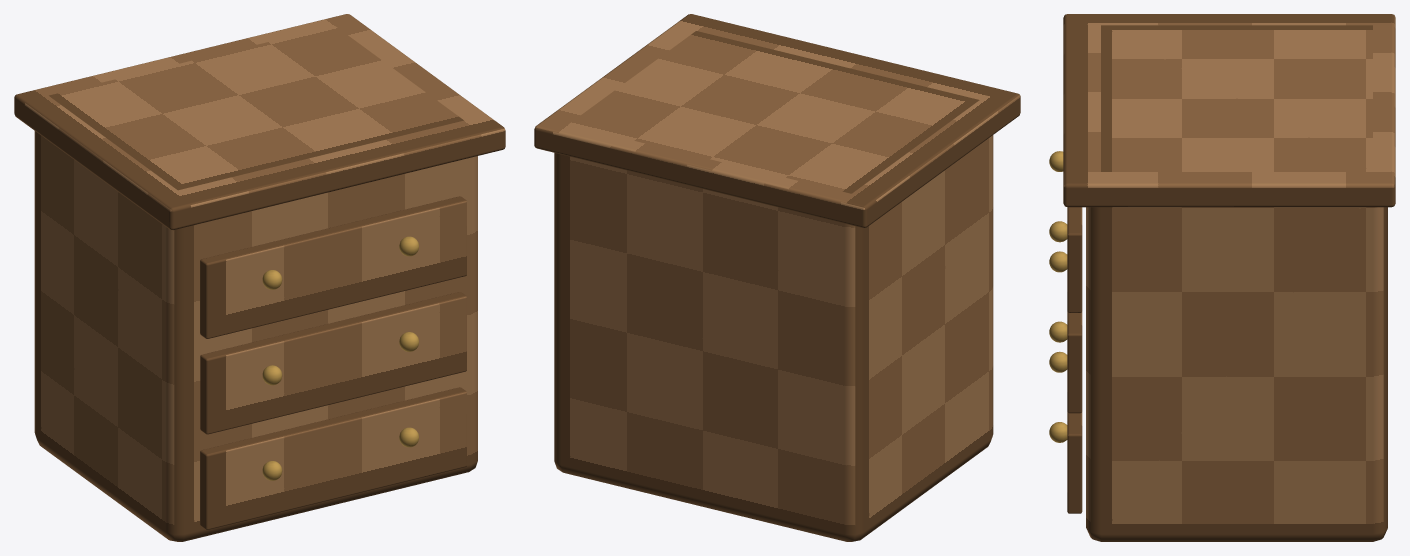
The model's file is nightstand.glb.
3 views of the same model, side by side, from view 1: azimuth 30°, elevation 25°; view 2: azimuth 150°, elevation 25°; view 3: azimuth 270°, elevation 25° (orthographic). The views are drawn at different scales.
Visible parts, largest first — view 1: dyn_wood_variant, nightstand; view 2: dyn_wood_variant; view 3: dyn_wood_variant, nightstand.
Part boxes in pixels (<box>): dyn_wood_variant: <box>14,14,505,541</box>; nightstand: <box>262,236,418,480</box>; dyn_wood_variant: <box>534,14,1020,541</box>; dyn_wood_variant: <box>1063,14,1395,541</box>; nightstand: <box>1049,151,1067,442</box>.
Bounding box in the file's own units: 0.5403 × 0.5401 × 0.459.
2 materials, 2 textured.
